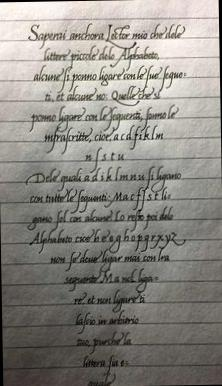text: (26, 224, 188, 256), (32, 62, 189, 95), (27, 19, 187, 51), (27, 102, 180, 135), (24, 162, 183, 193), (28, 184, 173, 216), (26, 204, 176, 234), (44, 123, 166, 156), (48, 244, 171, 274), (42, 43, 160, 71), (44, 82, 162, 108), (62, 264, 159, 292), (72, 286, 146, 314), (74, 308, 141, 336), (76, 328, 134, 356), (84, 145, 126, 173), (82, 352, 126, 376), (84, 369, 118, 386)
